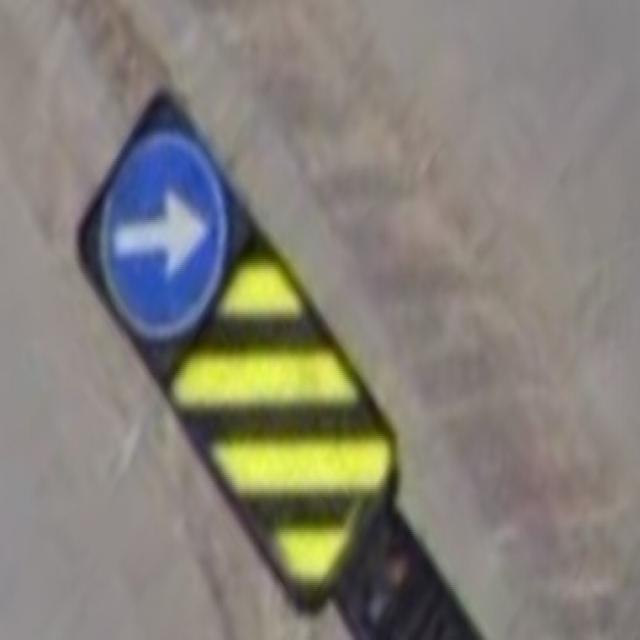Turn Right: (100, 126, 243, 338)
